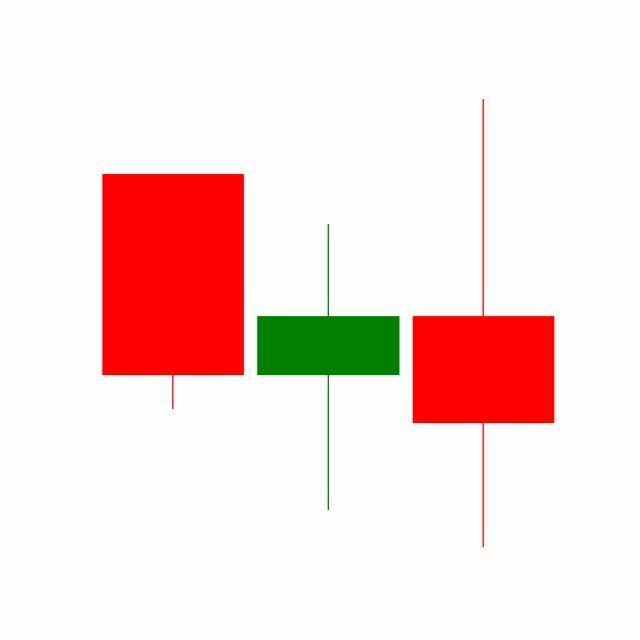Spinning Top: (250, 221, 407, 515)
